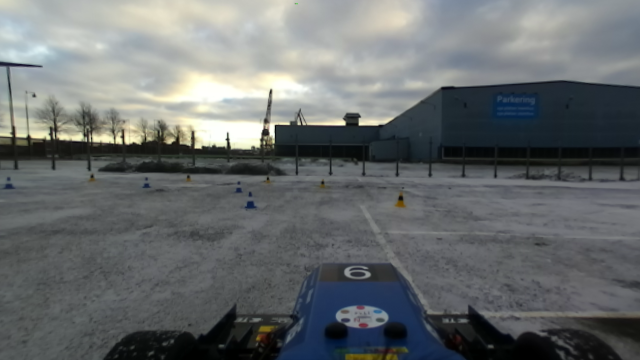blue: (243, 190, 257, 209)
yellow: (395, 188, 408, 208)
